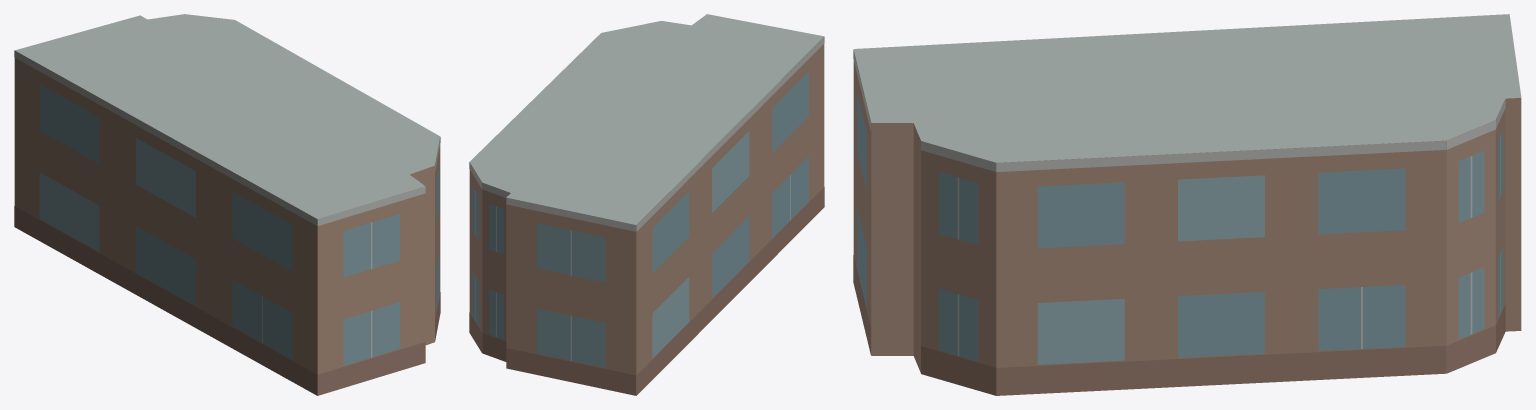
Rendered from survey-upis-32835282.glb.
The picture shows the model from 3 angles, left to right: view 1: azimuth 30°, elevation 25°; view 2: azimuth 150°, elevation 25°; view 3: azimuth 270°, elevation 25°; orthographic projection. The views are drawn at different scales.
Visible parts, largest first — view 1: survey-upis-32835282.tmp; view 2: survey-upis-32835282.tmp; view 3: survey-upis-32835282.tmp.
Part boxes in pixels (x1,y1,x2,y2): survey-upis-32835282.tmp: [14, 14, 440, 395]; survey-upis-32835282.tmp: [469, 14, 824, 395]; survey-upis-32835282.tmp: [853, 14, 1521, 395].
Size of the model in its own units: 8.36 by 6.1 by 15.86.
